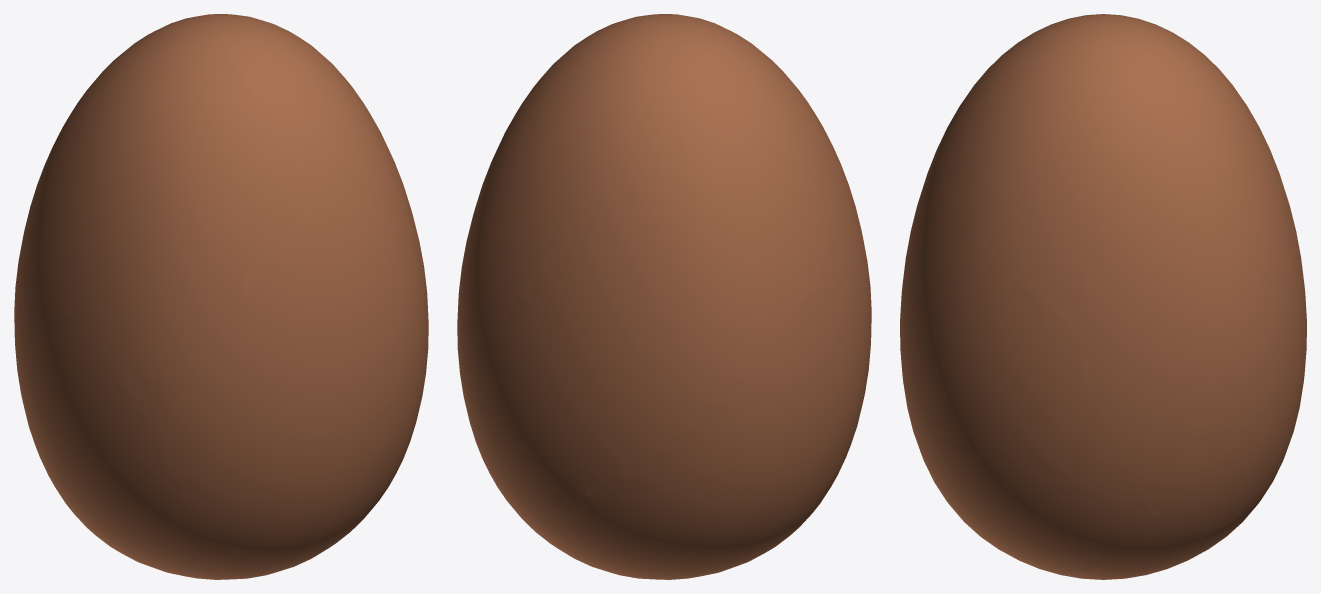
The model's file is Egg.fbx.
3 views of the same model, side by side, from view 1: azimuth 30°, elevation 25°; view 2: azimuth 150°, elevation 25°; view 3: azimuth 270°, elevation 25° (orthographic).
Visible parts, largest first — view 1: Cube, Cube_cell.005, Cube_cell.002, Cube_cell.004, Cube_cell.001, Cube_cell; view 2: Cube_cell, Cube, Cube_cell.001, Cube_cell.003, Cube_cell.002, Cube_cell.004; view 3: Cube, Cube_cell.003, Cube_cell.005, Cube_cell.004, Cube_cell, Cube_cell.001, Cube_cell.002.
Part boxes in pixels (box(x1,y1,x2,y2)): Cube: box(16, 14, 428, 579); Cube_cell.005: box(134, 206, 428, 568); Cube_cell.002: box(41, 28, 315, 395); Cube_cell.004: box(158, 17, 410, 209); Cube_cell.001: box(14, 260, 291, 571); Cube_cell: box(18, 111, 73, 273); Cube_cell: box(464, 161, 812, 508); Cube: box(457, 14, 871, 578); Cube_cell.001: box(505, 283, 871, 579); Cube_cell.003: box(459, 60, 685, 397); Cube_cell.002: box(660, 23, 871, 307); Cube_cell.004: box(593, 14, 713, 80); Cube: box(900, 14, 1306, 579); Cube_cell.003: box(1066, 34, 1288, 517); Cube_cell.005: box(900, 160, 1151, 573); Cube_cell.004: box(939, 17, 1172, 318); Cube_cell: box(1151, 130, 1306, 535); Cube_cell.001: box(1046, 473, 1276, 579); Cube_cell.002: box(928, 14, 1156, 170).
Bounding box in the file's own units: 387 × 561 × 387.
